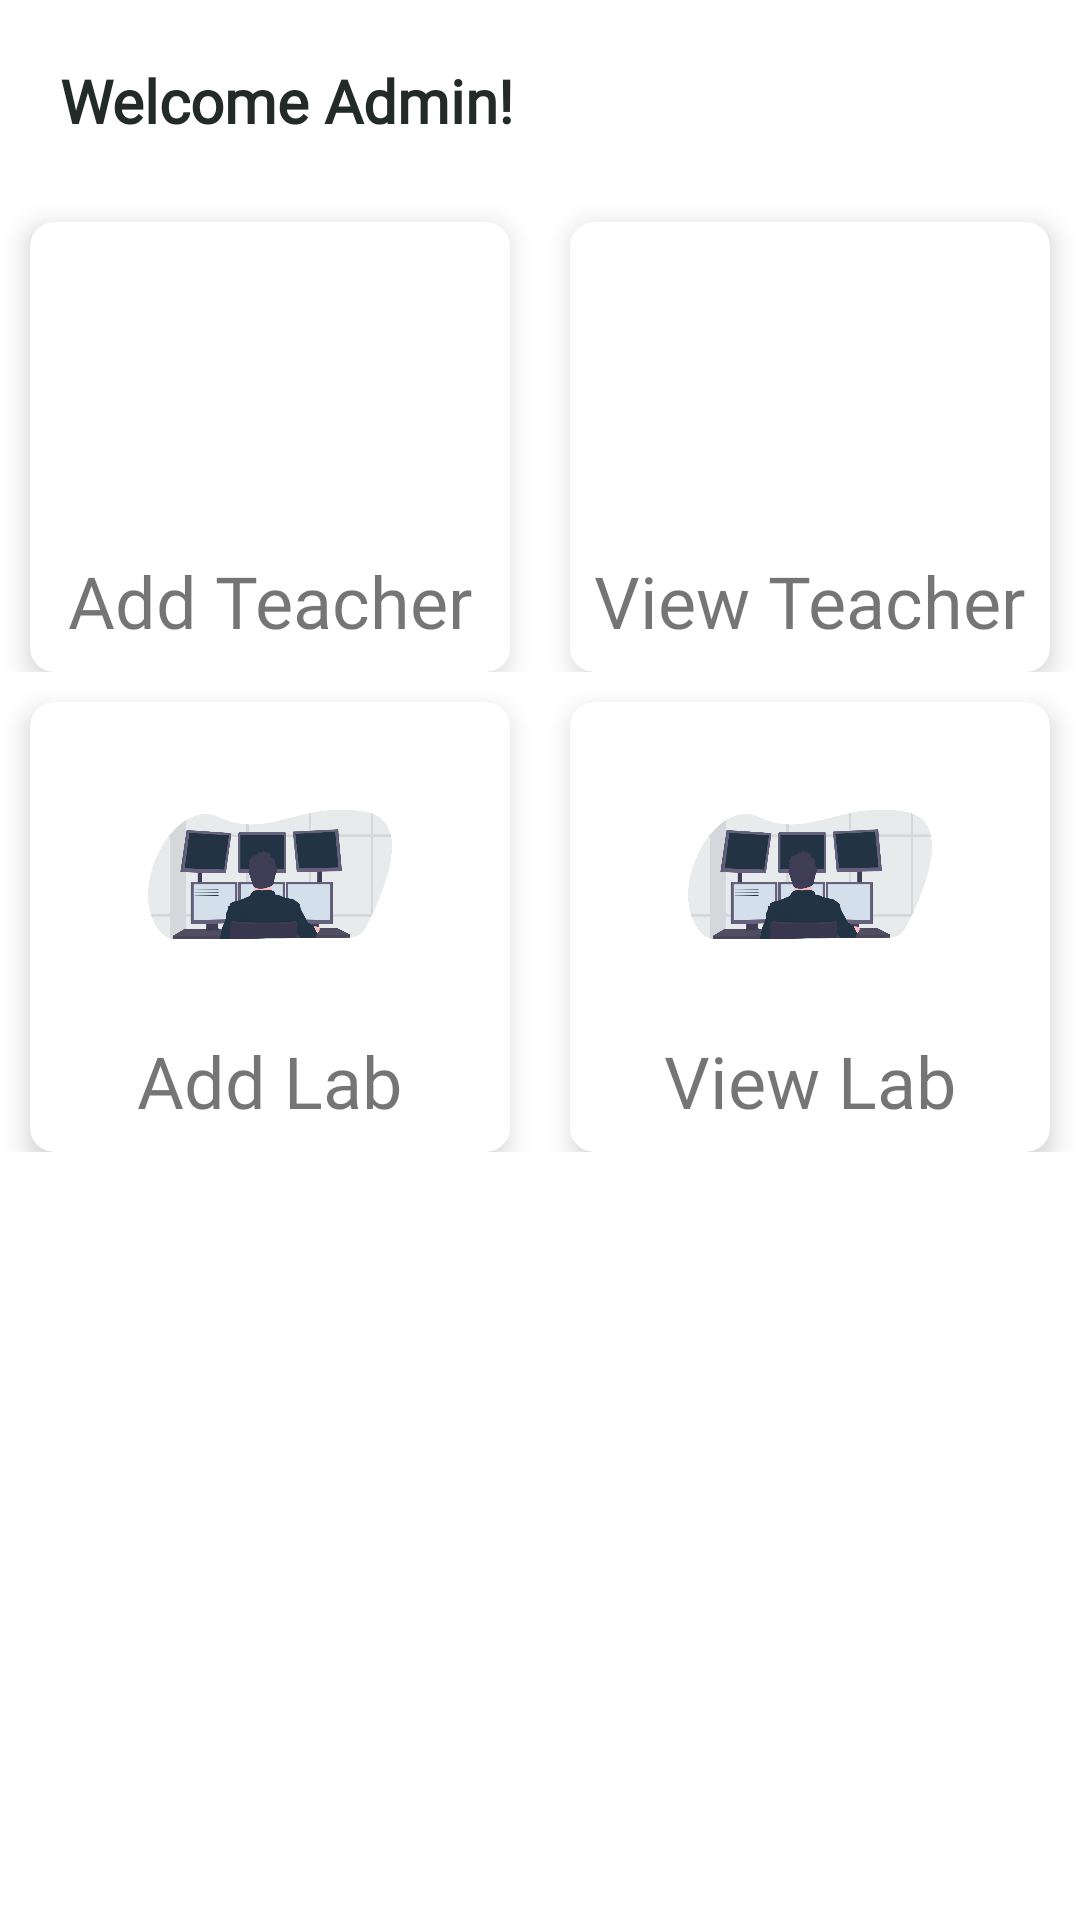

Screen size 1080x1920. Icon name, then its box in pixels as bbox(x1, y1, x2, y2):
comp lab: bbox(151, 813, 391, 939), bbox(691, 813, 931, 939)
